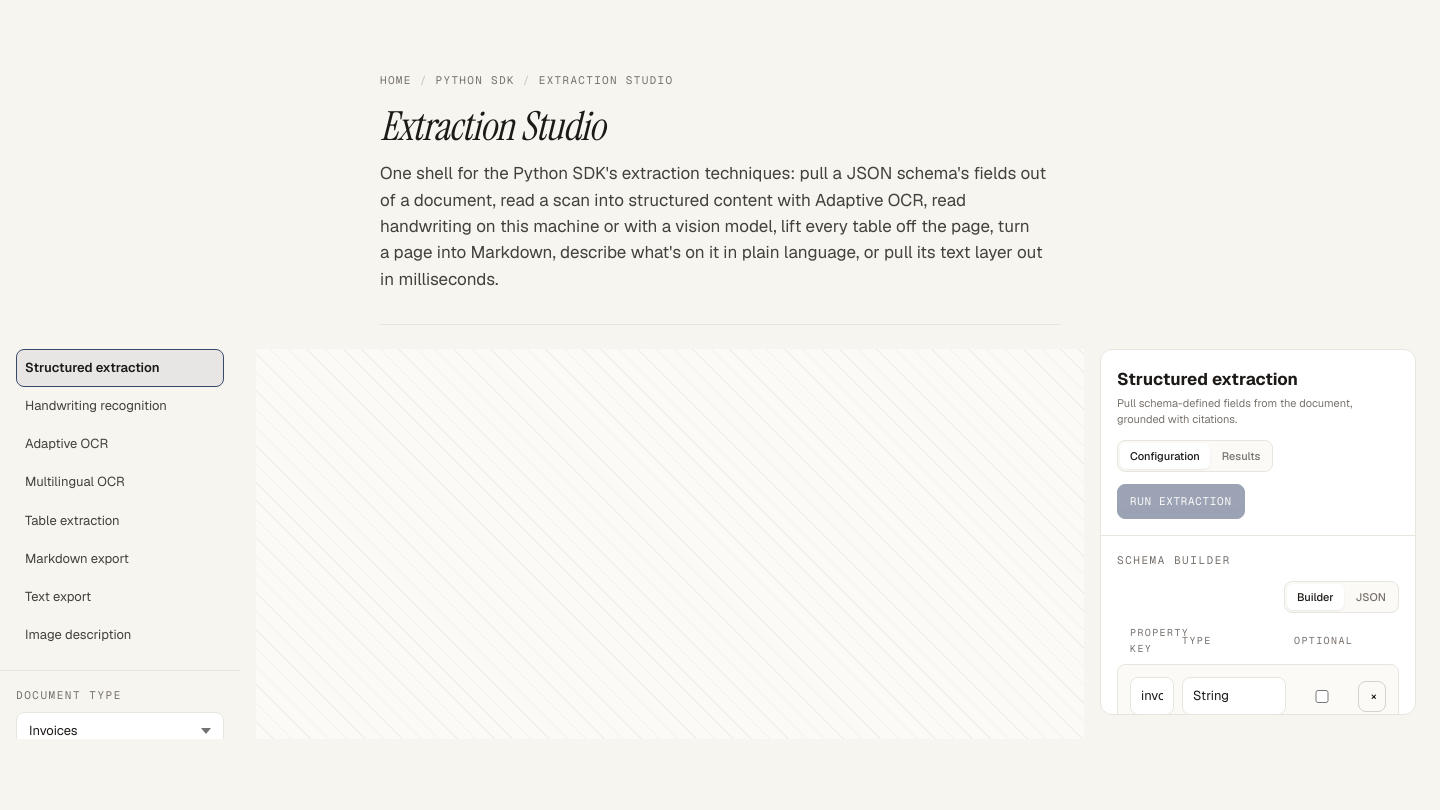
Test: Table extraction is selectable and swaps in its own panel
Click the button "Table extraction": (120, 521) [16,502,224,540]
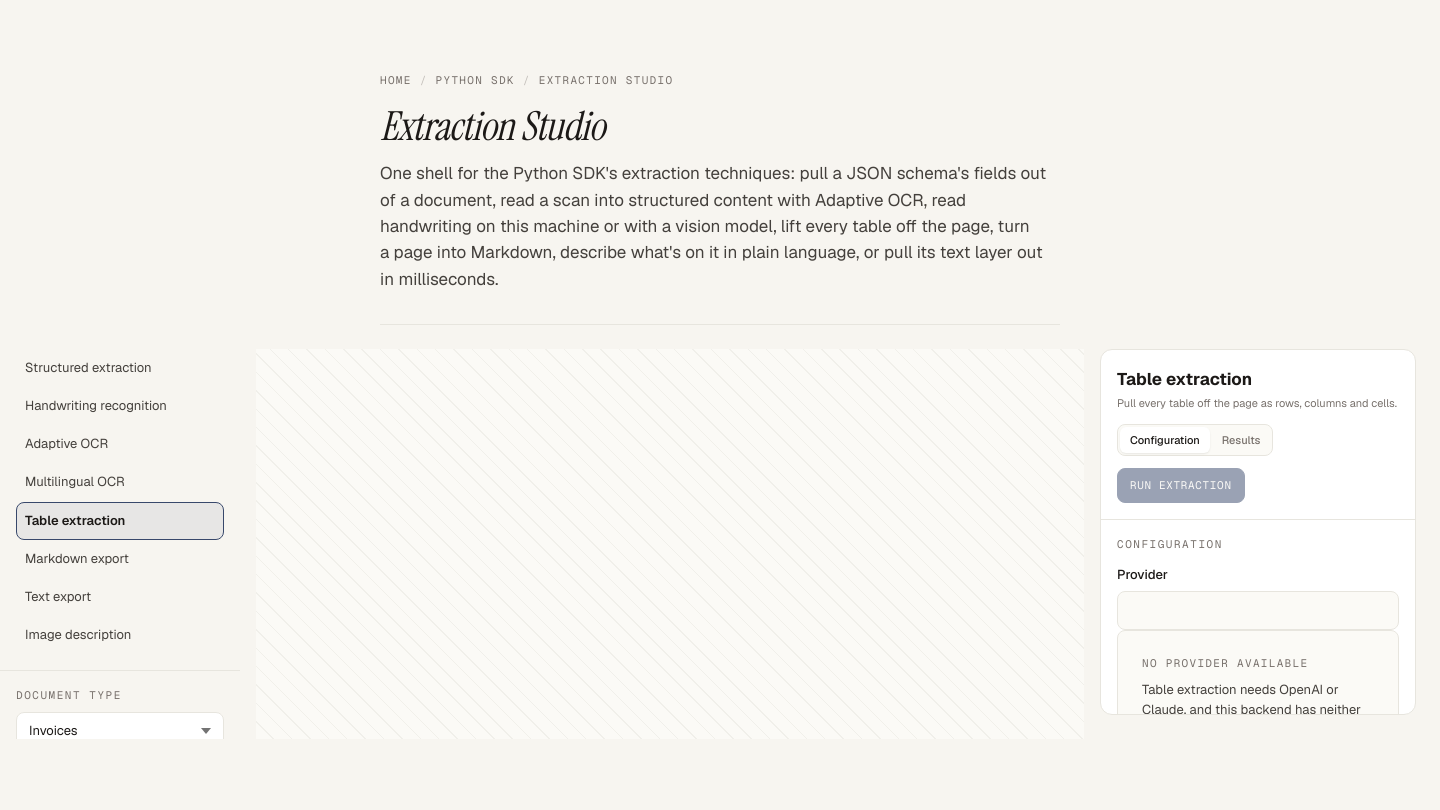
Now the dropdown labelled "Provider" is shown, box [1117,592,1399,630]
